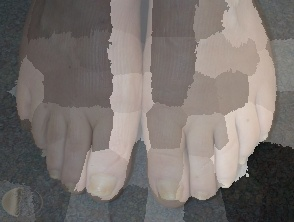Nail_psoriasis: (85, 172, 123, 202), (151, 182, 189, 204), (60, 175, 84, 195), (192, 184, 215, 204), (43, 165, 64, 182), (218, 176, 235, 188), (36, 147, 51, 159), (238, 155, 248, 165), (258, 130, 269, 139)
